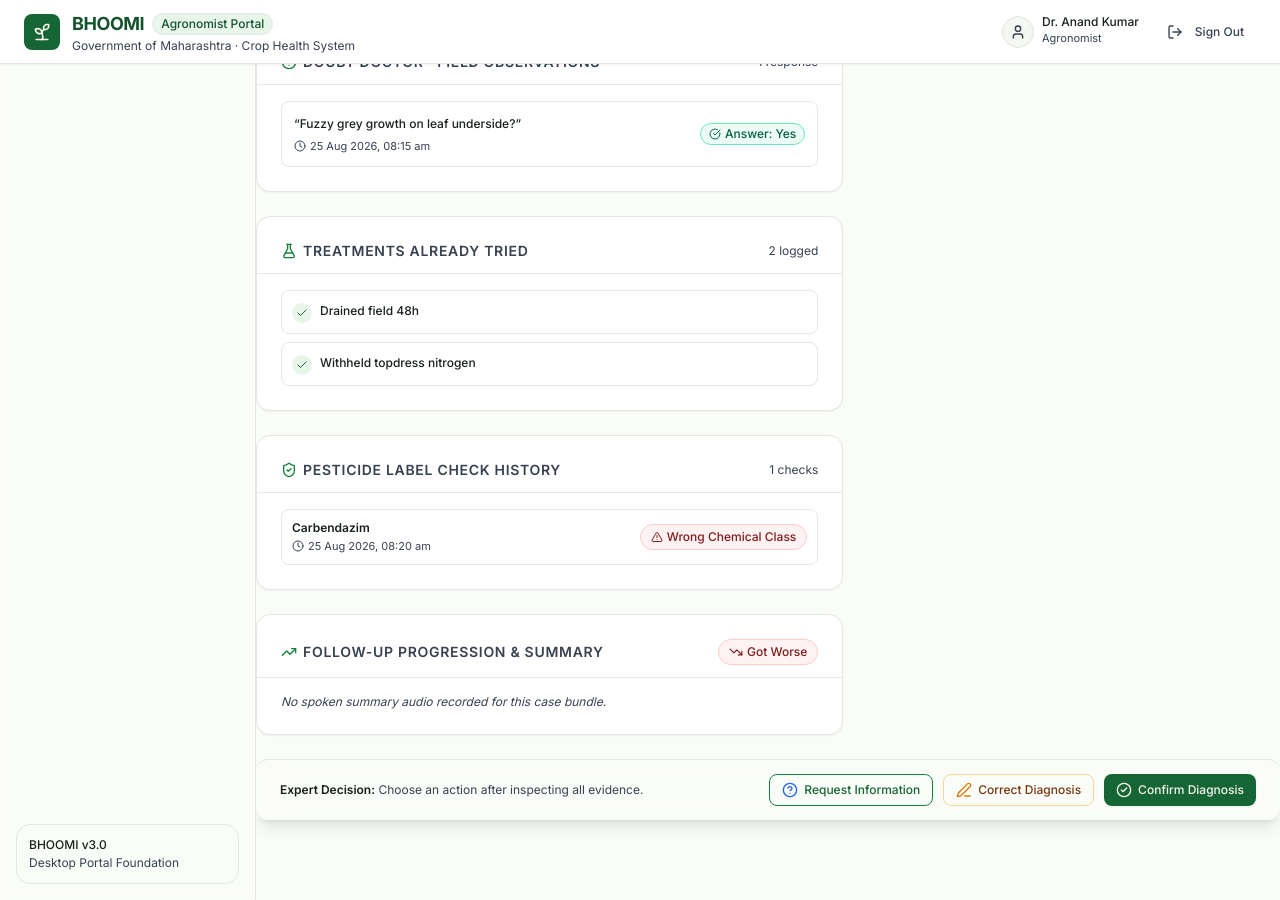
BHOOMI Phase 8 — End-to-End Integration & Multi-Role QA › 2. F12 Agronomist Complete Review & Resolution Workflow › completes the full queue -> workspace review -> confirmation lifecycle
(page scrolled)
expect the text "“Fuzzy grey growth on leaf underside?”" is shown: met, box x1=294 y1=114 x2=521 y2=134
expect the text "carbendazim" is shown: met, box x1=292 y1=520 x2=370 y2=536
Trigger Confirm Dialog
Click the button "Confirm Diagnosis" at (1180, 790), box x1=1104 y1=774 x2=1256 y2=806
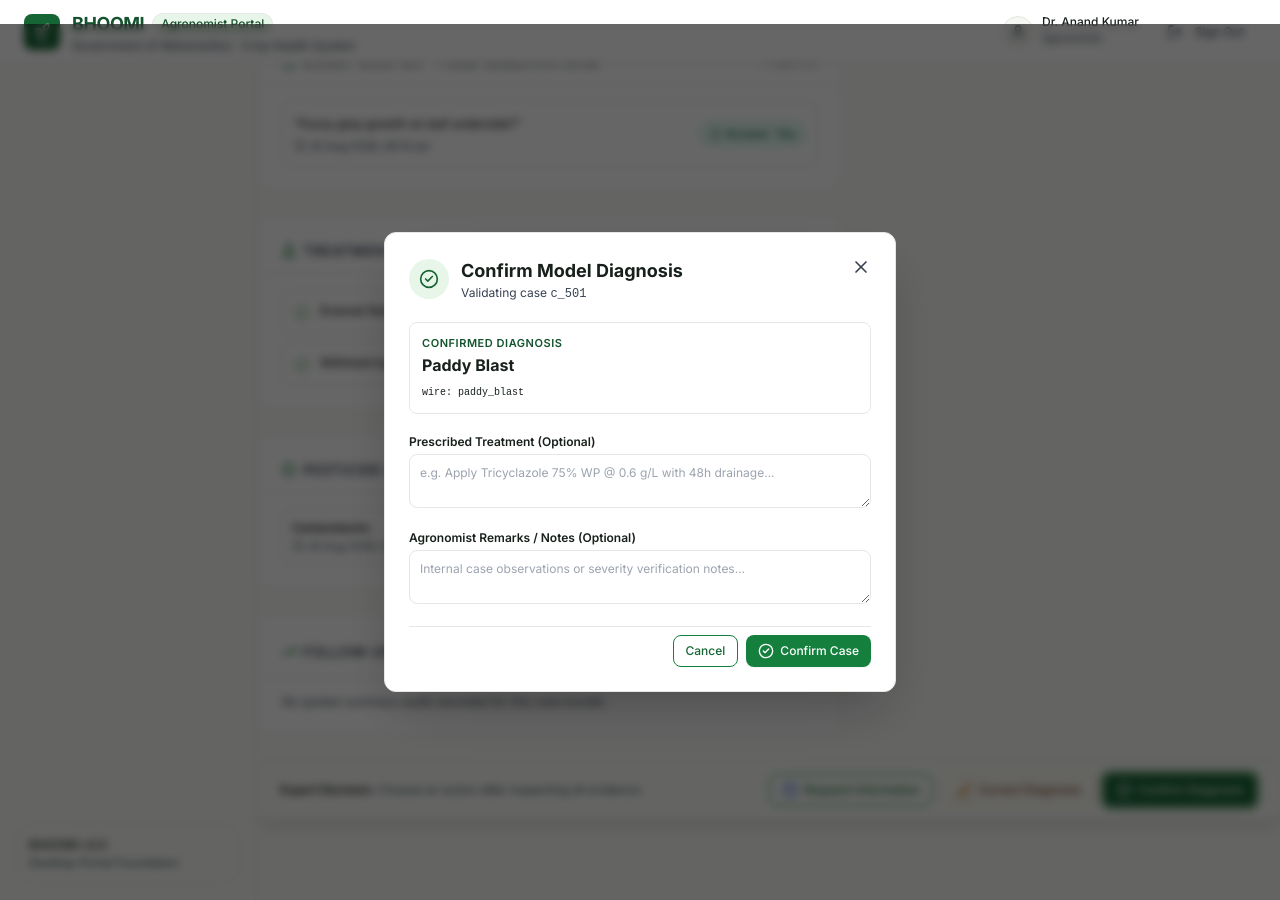
expect the dialog "Confirm Model Diagnosis" is shown: met
Fill treatment and submit
Type "Apply Tricyclazole 75 WP per PoP; drain for 48h." into the text box labelled "Prescribed Treatment (Optional)" at (640, 481), box x1=409 y1=454 x2=871 y2=508
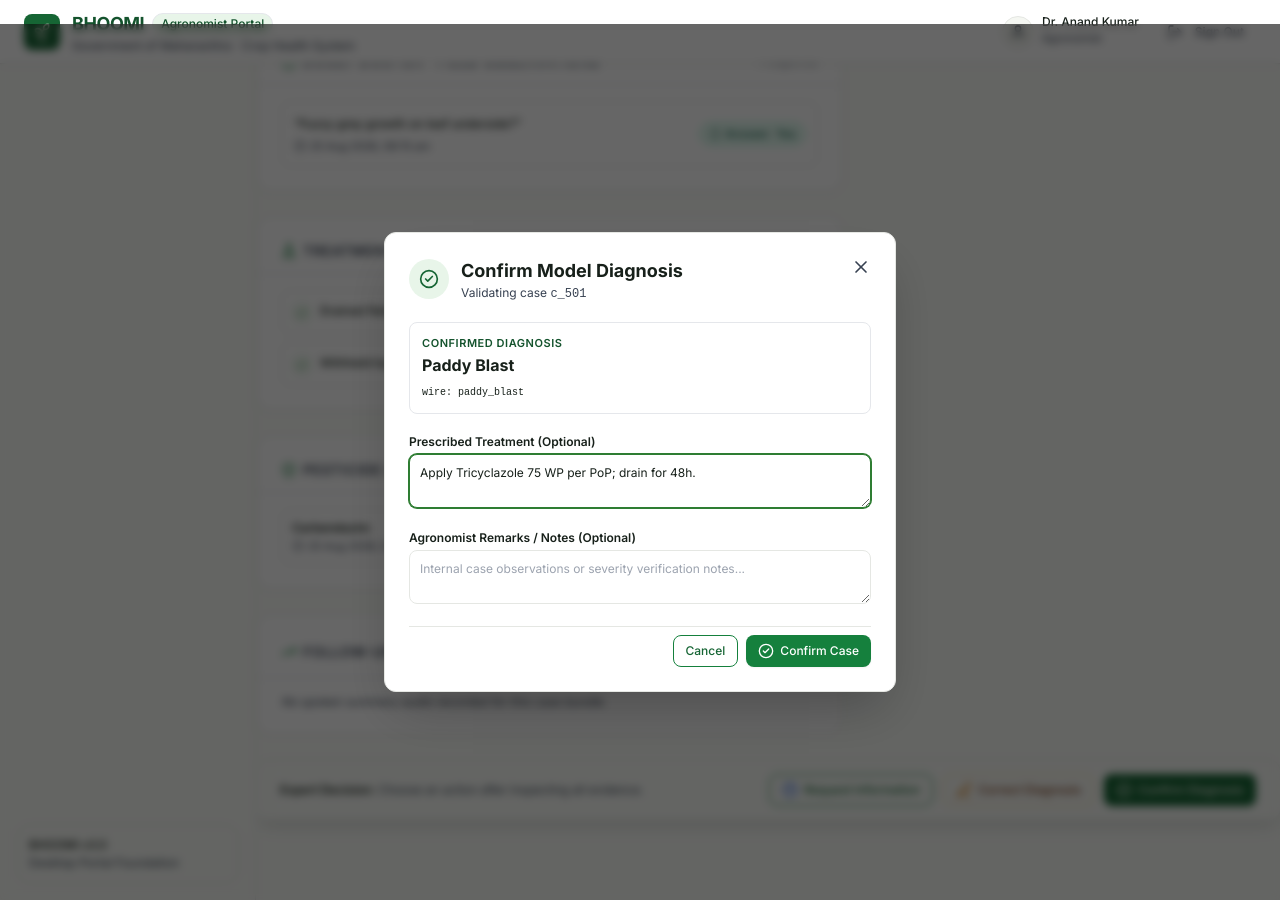
Click the button "Confirm Case" at (809, 651), box x1=746 y1=635 x2=871 y2=667
(page scrolled)
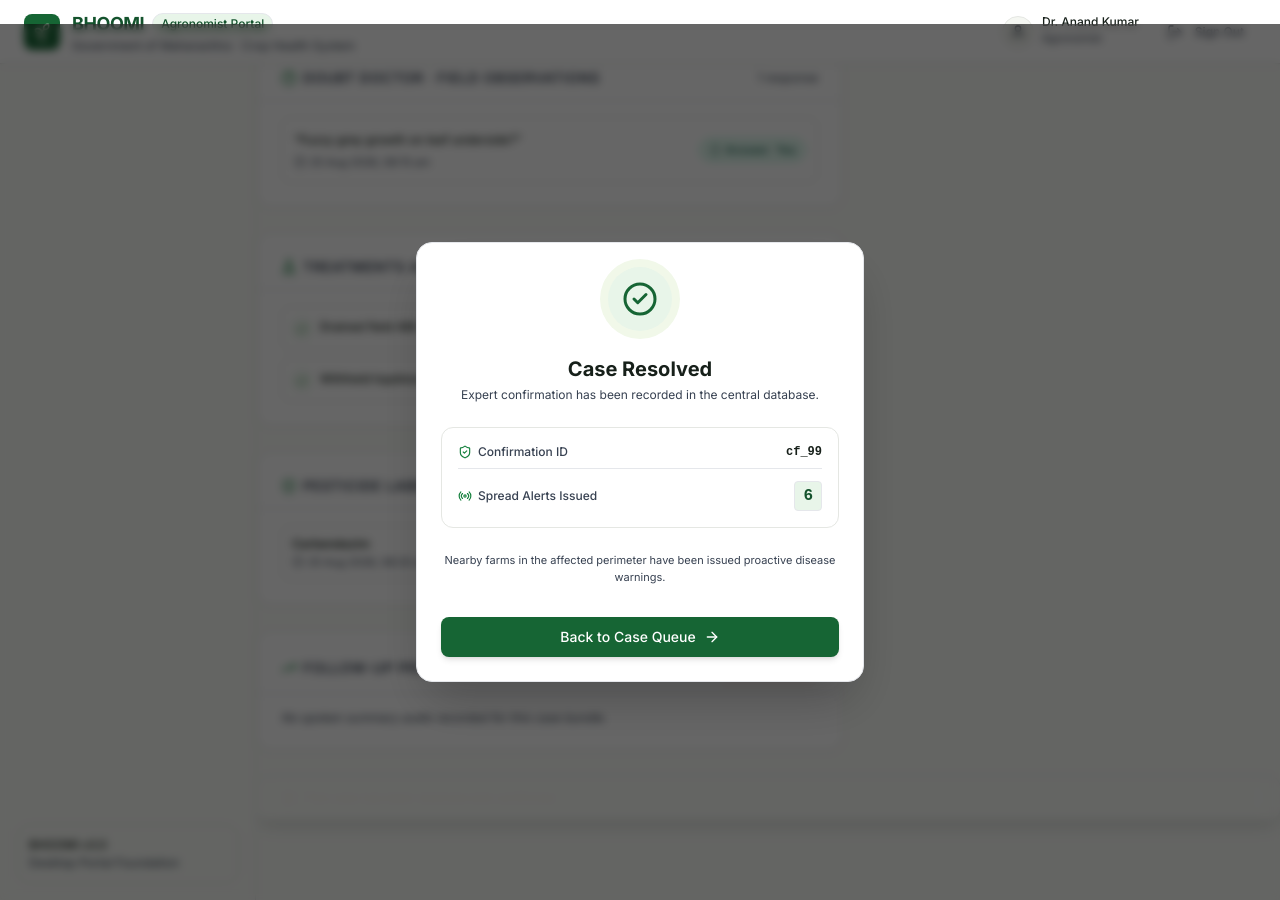
expect the dialog "Case Resolved" is shown: met
expect the text "cf_99" is shown: met, box x1=786 y1=444 x2=822 y2=460
expect the text "6" is shown: met, box x1=794 y1=481 x2=822 y2=511
